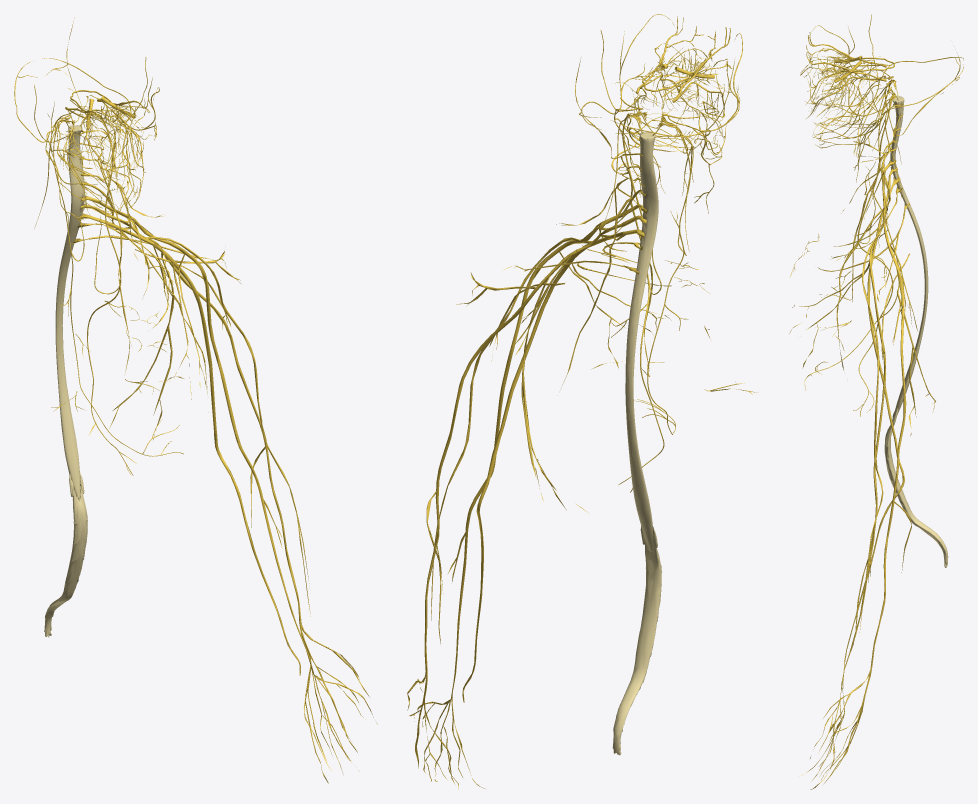
Rendered from nerves.glb.
3 renders of one model, left to right at view 1: azimuth 30°, elevation 25°; view 2: azimuth 150°, elevation 25°; view 3: azimuth 270°, elevation 25°, orthographic. The views are drawn at different scales.
Visible parts, largest first — view 1: nerves, spinal-cord; view 2: nerves, spinal-cord; view 3: nerves, spinal-cord.
Part boxes in pixels (bbox=[...]): nerves: bbox=[14, 17, 377, 783]; spinal-cord: bbox=[44, 125, 87, 637]; nerves: bbox=[407, 14, 756, 789]; spinal-cord: bbox=[612, 132, 661, 755]; nerves: bbox=[789, 14, 963, 789]; spinal-cord: bbox=[884, 96, 948, 567].
Size of the model in its own units: 0.4012 by 0.918 by 0.2189.
